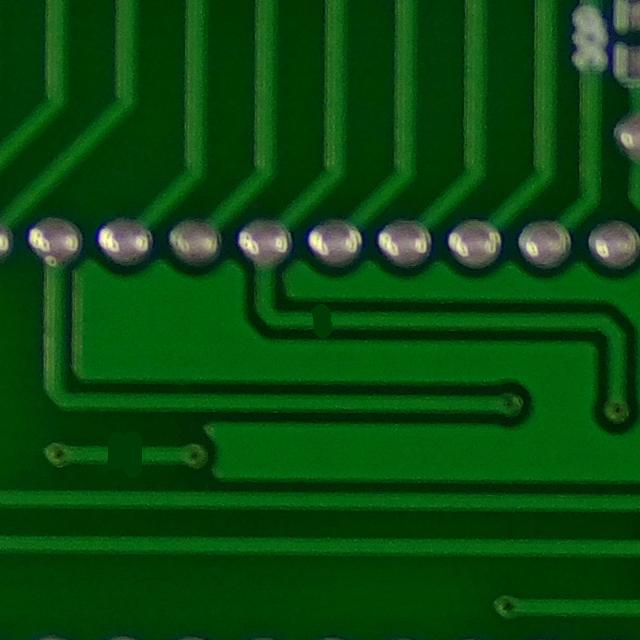open_circuit: (295, 303, 346, 337)
